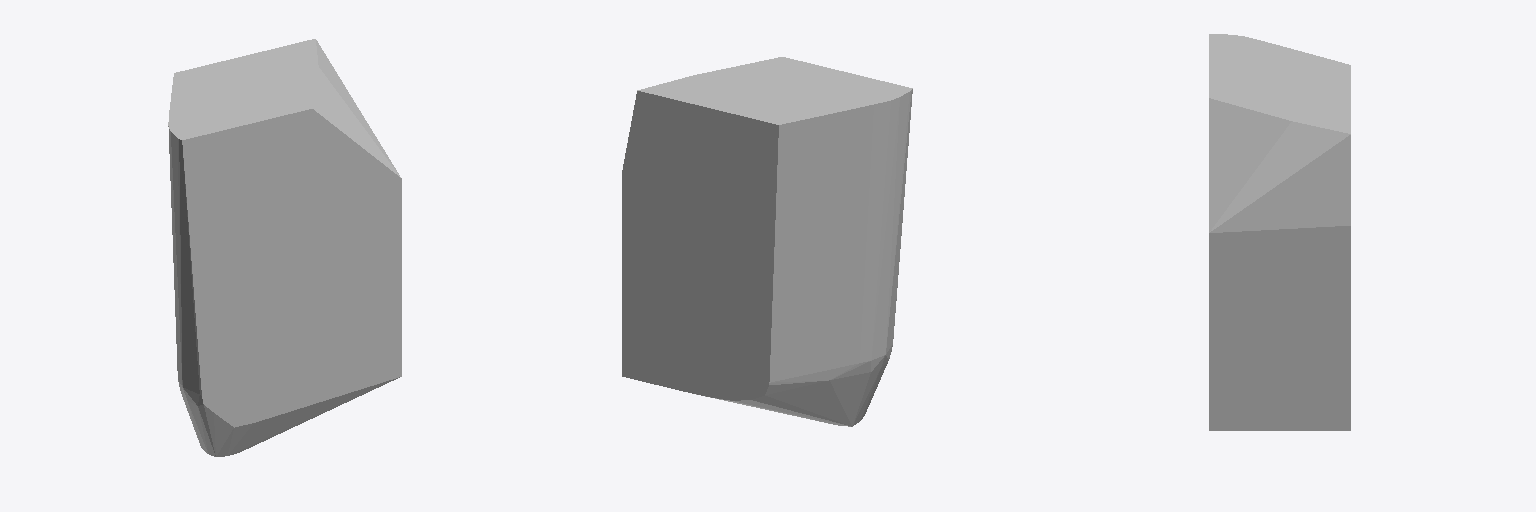
File: sofa_collision_10.obj
The picture shows the model from 3 angles: view 1: azimuth 30°, elevation 25°; view 2: azimuth 150°, elevation 25°; view 3: azimuth 270°, elevation 25°; orthographic projection.
Bounding box in the file's own units: 106 × 155 × 59.23.